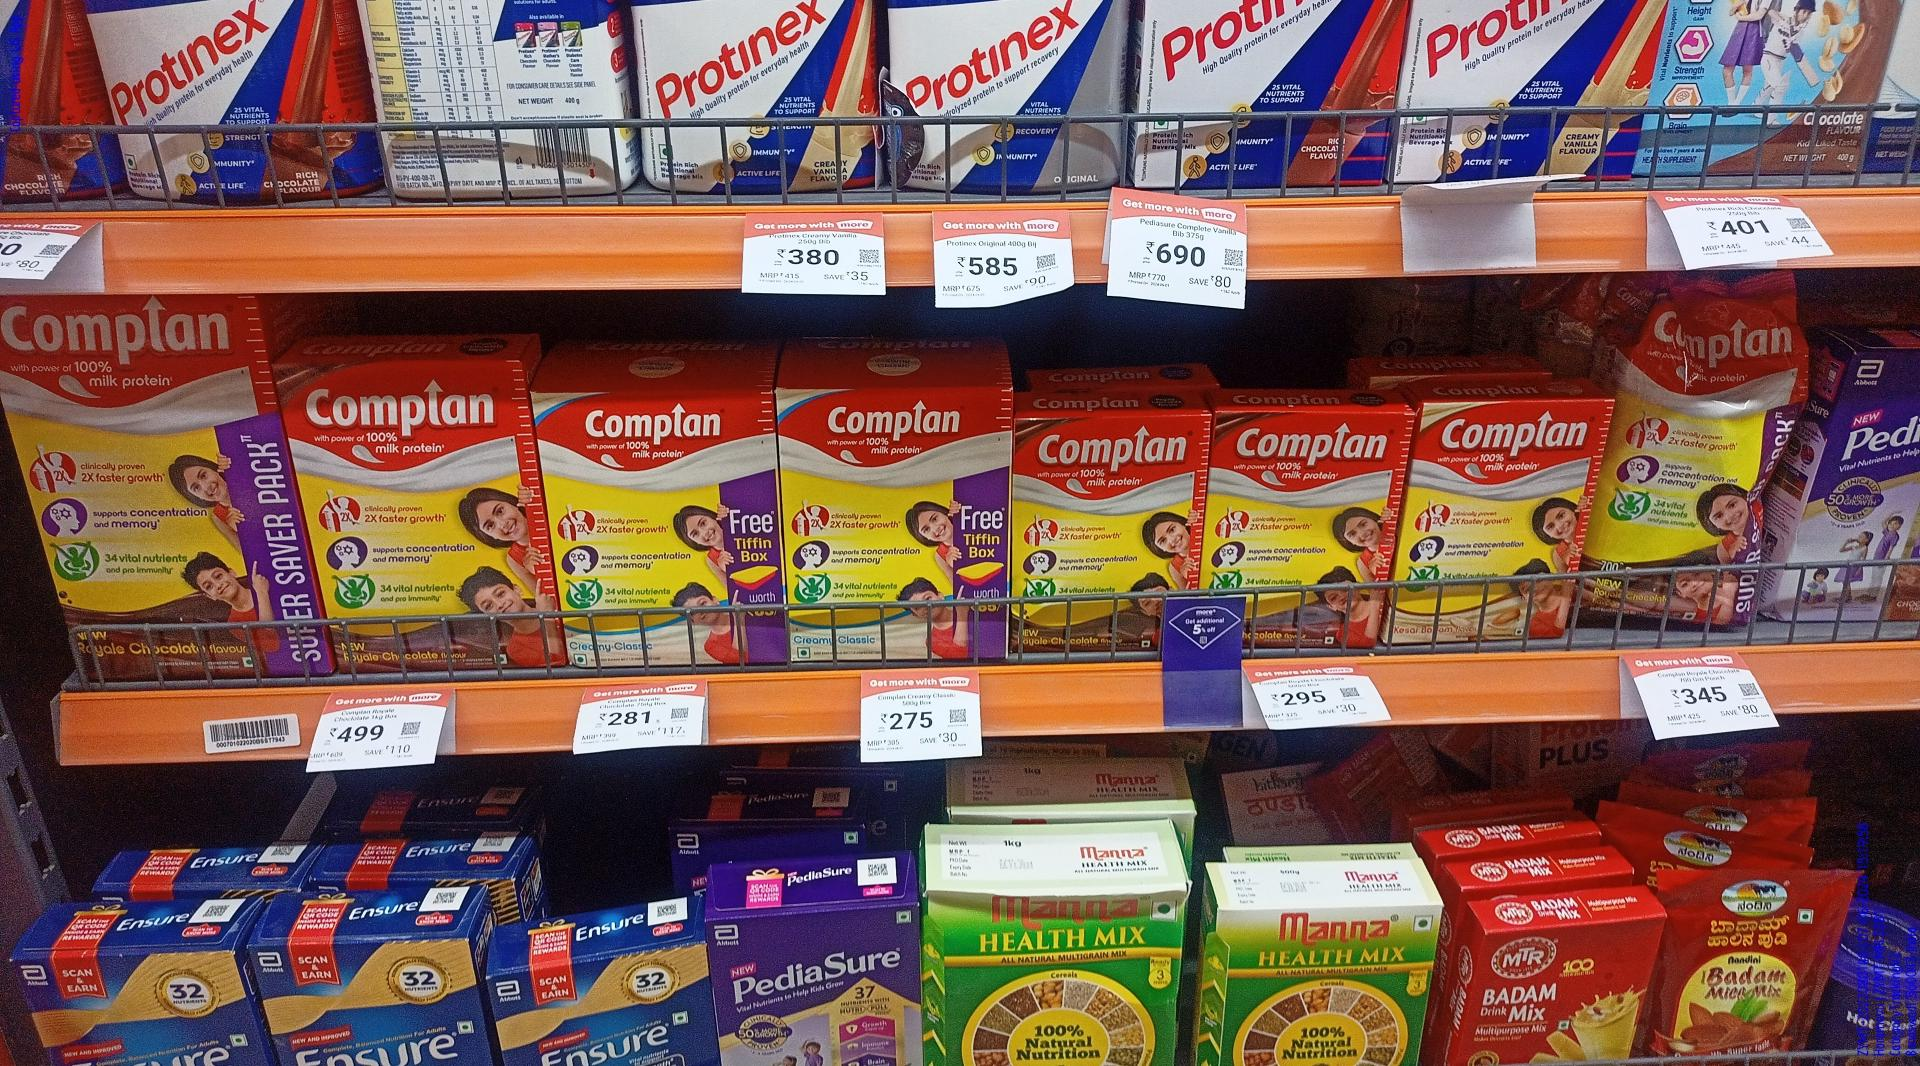PROTINEX_CHOCOLATE_400_G_JAR: (1142, 0, 1391, 180), (126, 0, 345, 200)
PROTINEX_ORIGINAL_400_G_JAR: (885, 3, 1121, 201)
PROTINEX_VANILLA_400_G_JAR: (635, 0, 879, 200), (1411, 0, 1642, 186)
